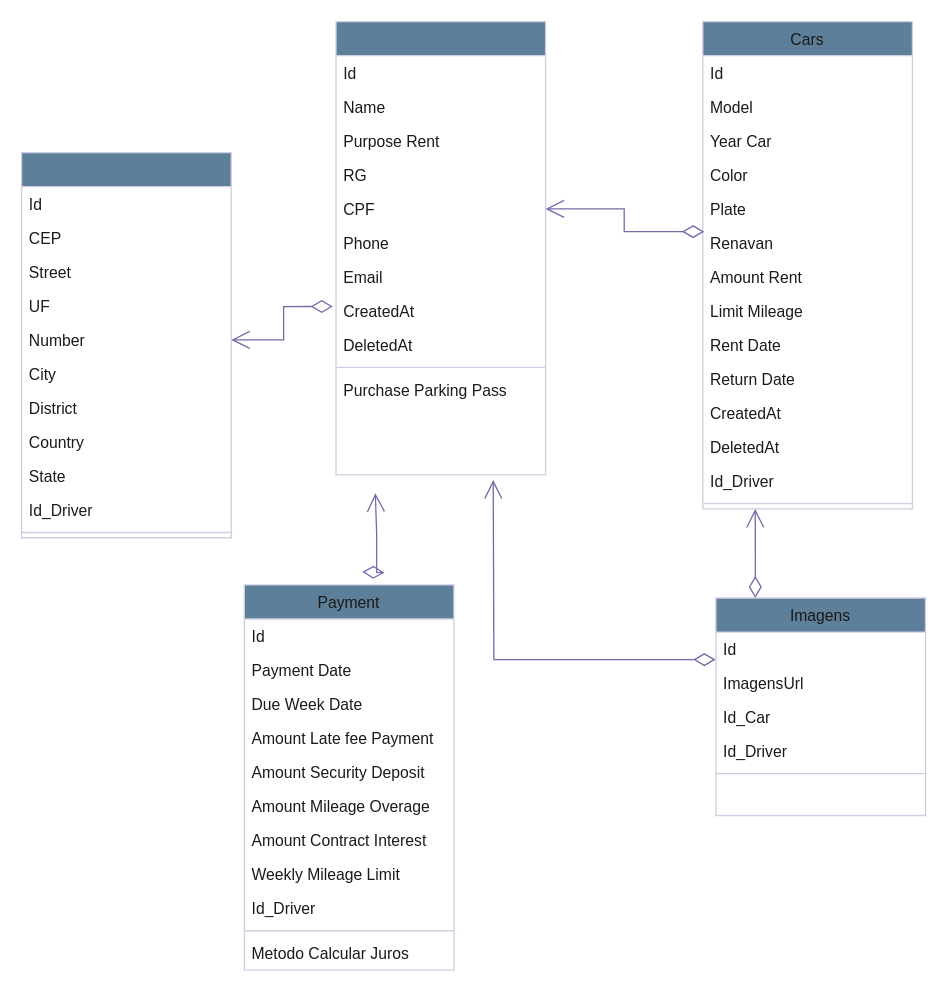
Some shapes in this 947 by 992 pixel diagram are drawn without their labels. Each missing label, with the box of its shape:
Address: (20, 151, 231, 538)
Drivers: (335, 20, 546, 475)
